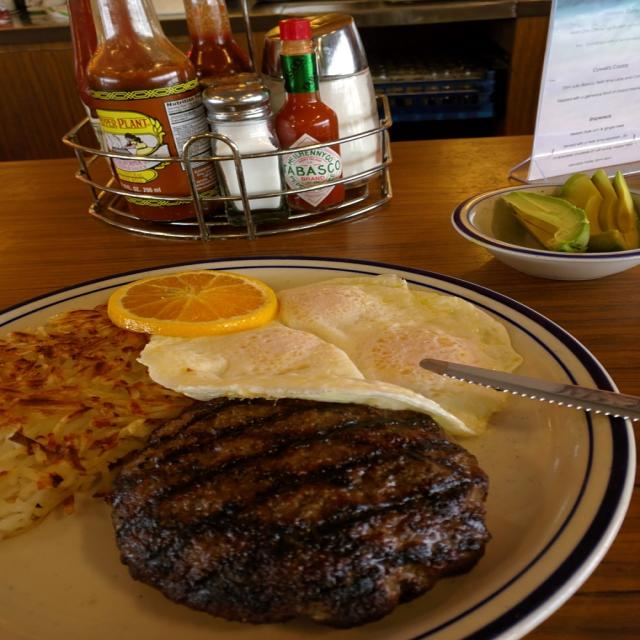Lemon: (107, 271, 290, 340)
